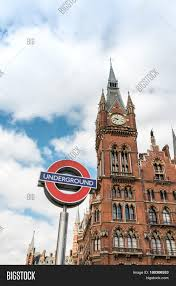London Underground: (38, 157, 96, 199)
